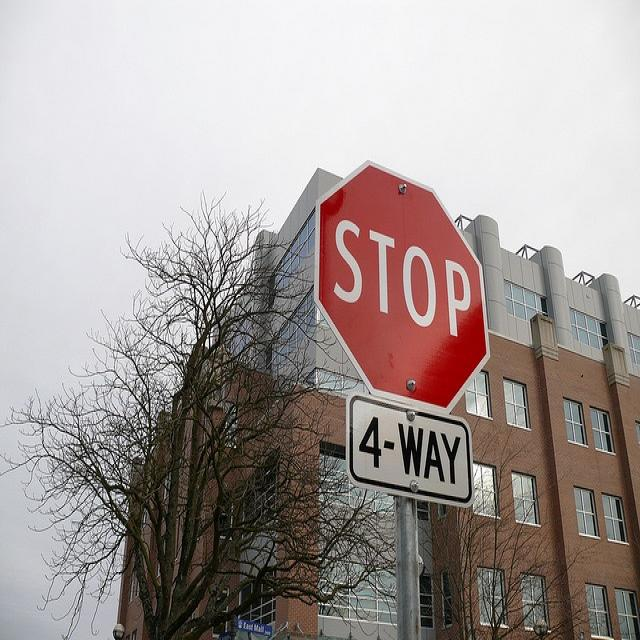pole: (391, 497, 425, 639)
